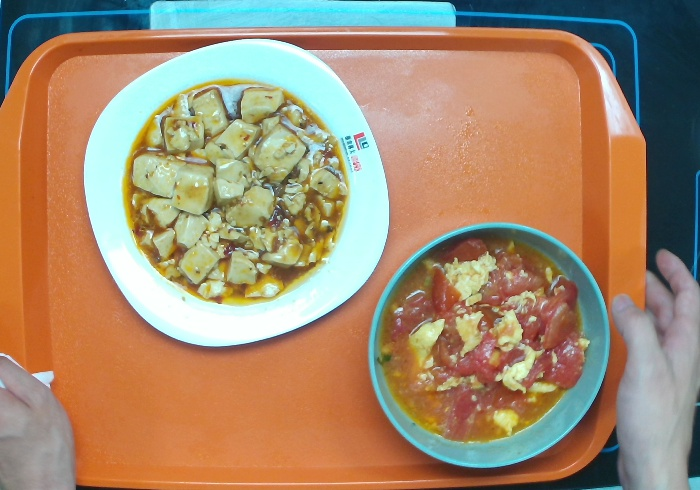ZNLD-Qing_Hua_Yuan_Wan: (366, 220, 611, 473)
ZNLD-Yuan_Jiao_Pan: (84, 35, 393, 350)
